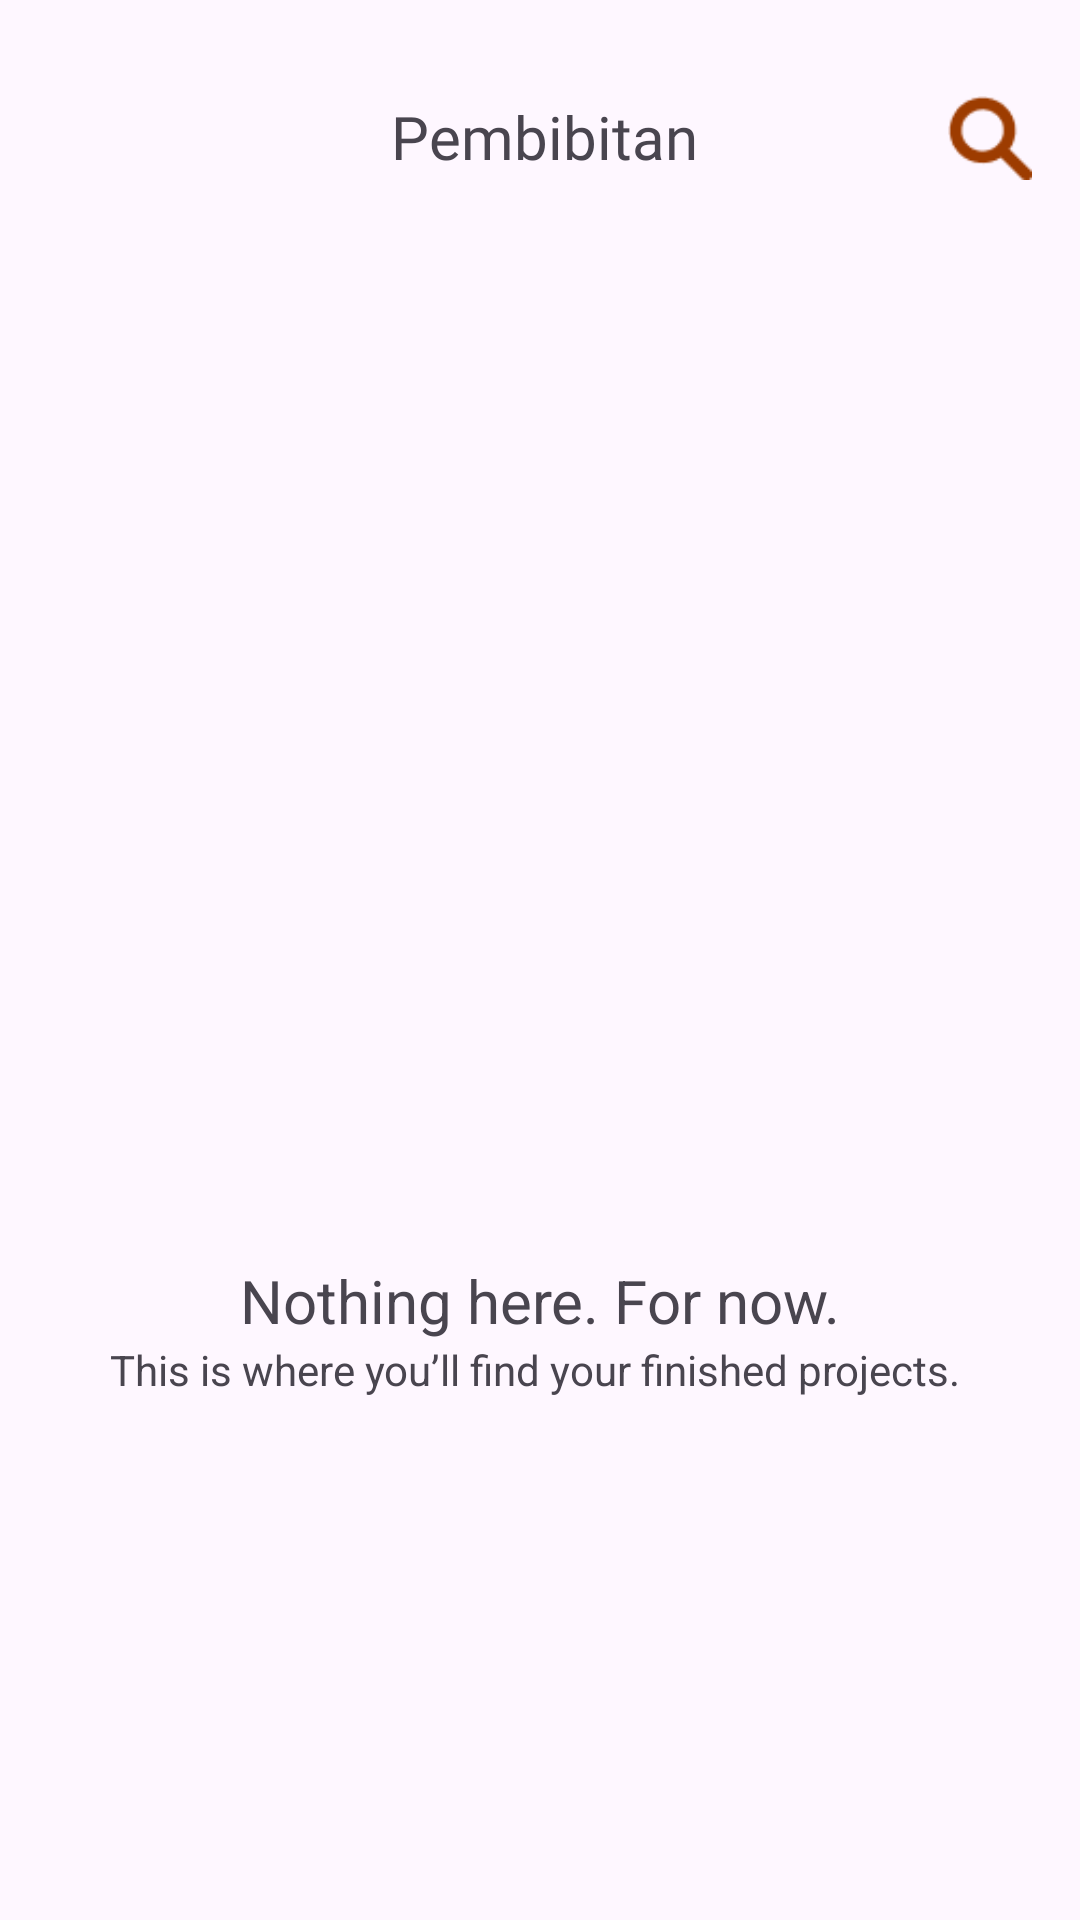

Screen size 1080 × 1920. Icon name, then its center in pixels as [x,y]:
pencarian: [990,138]
